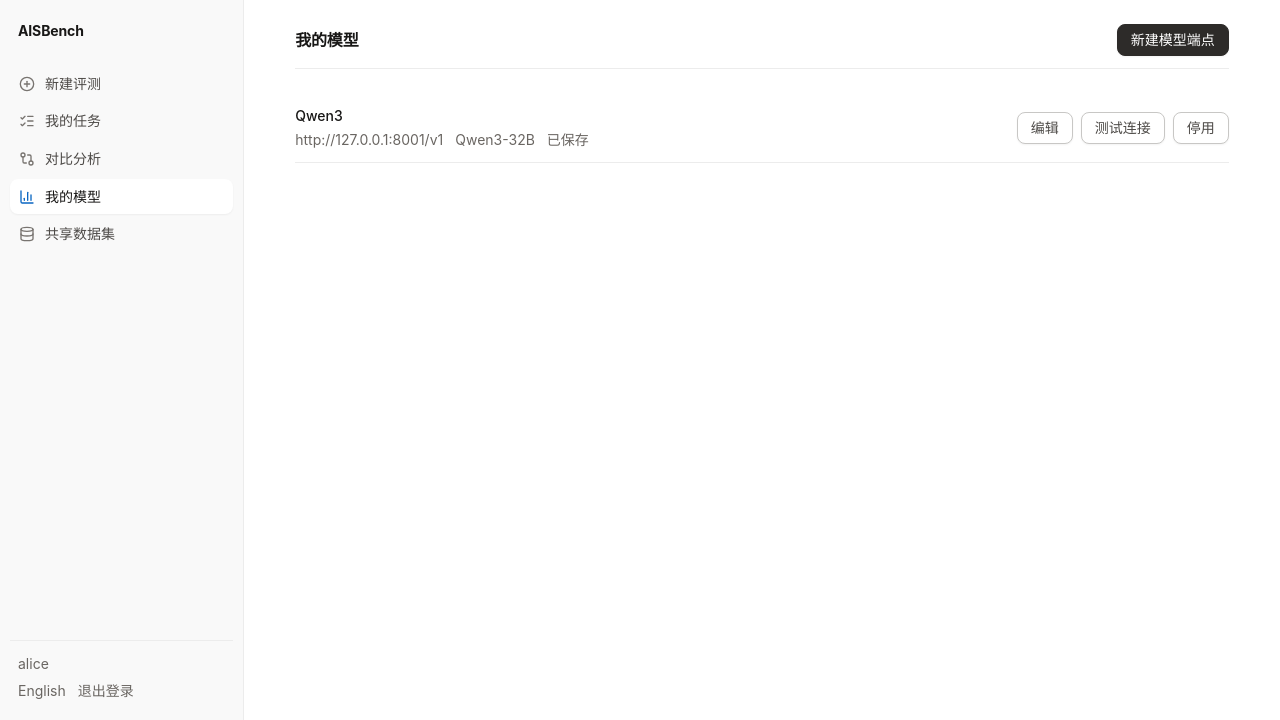
Test case: my models › reports a connectivity test as a diagnostic, not a page failure
Click the button "测试连接" at (1123, 128), box [1081,112,1165,144]
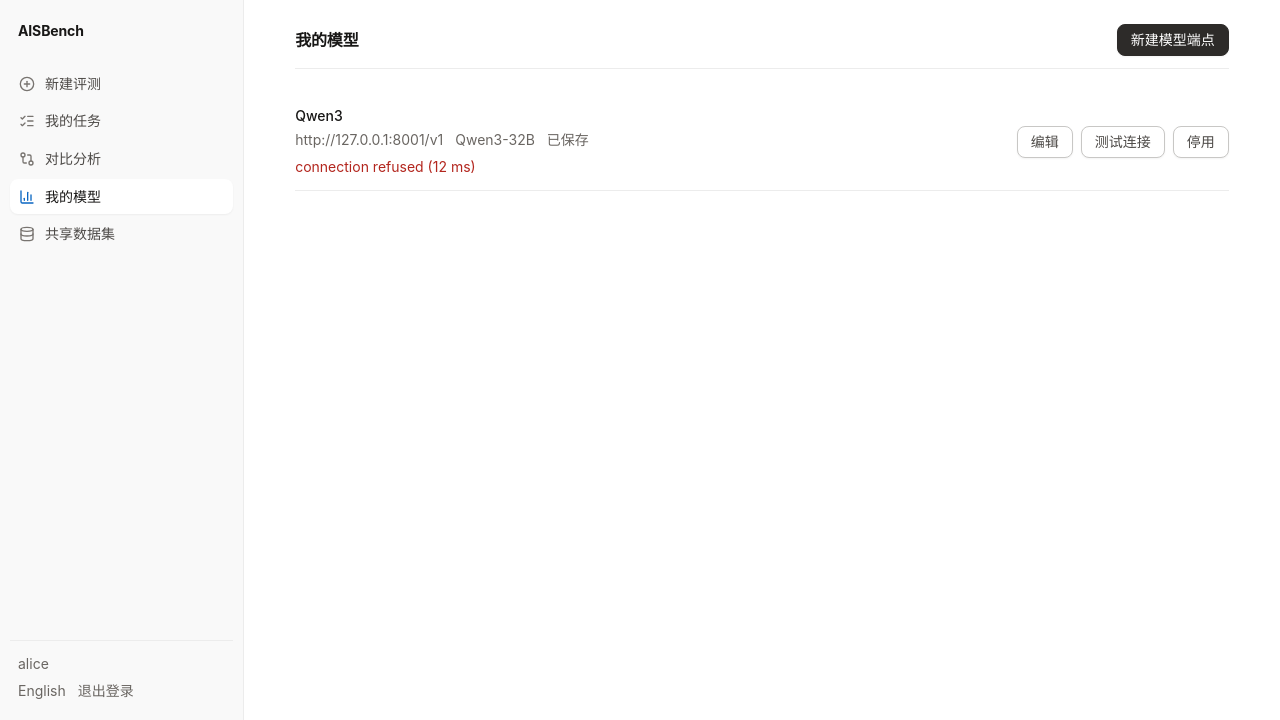
Expected: the text "Qwen3" is shown, [295,107,343,124]
Expected: the text "connection refused (12 ms)" is shown, [295,158,476,175]
